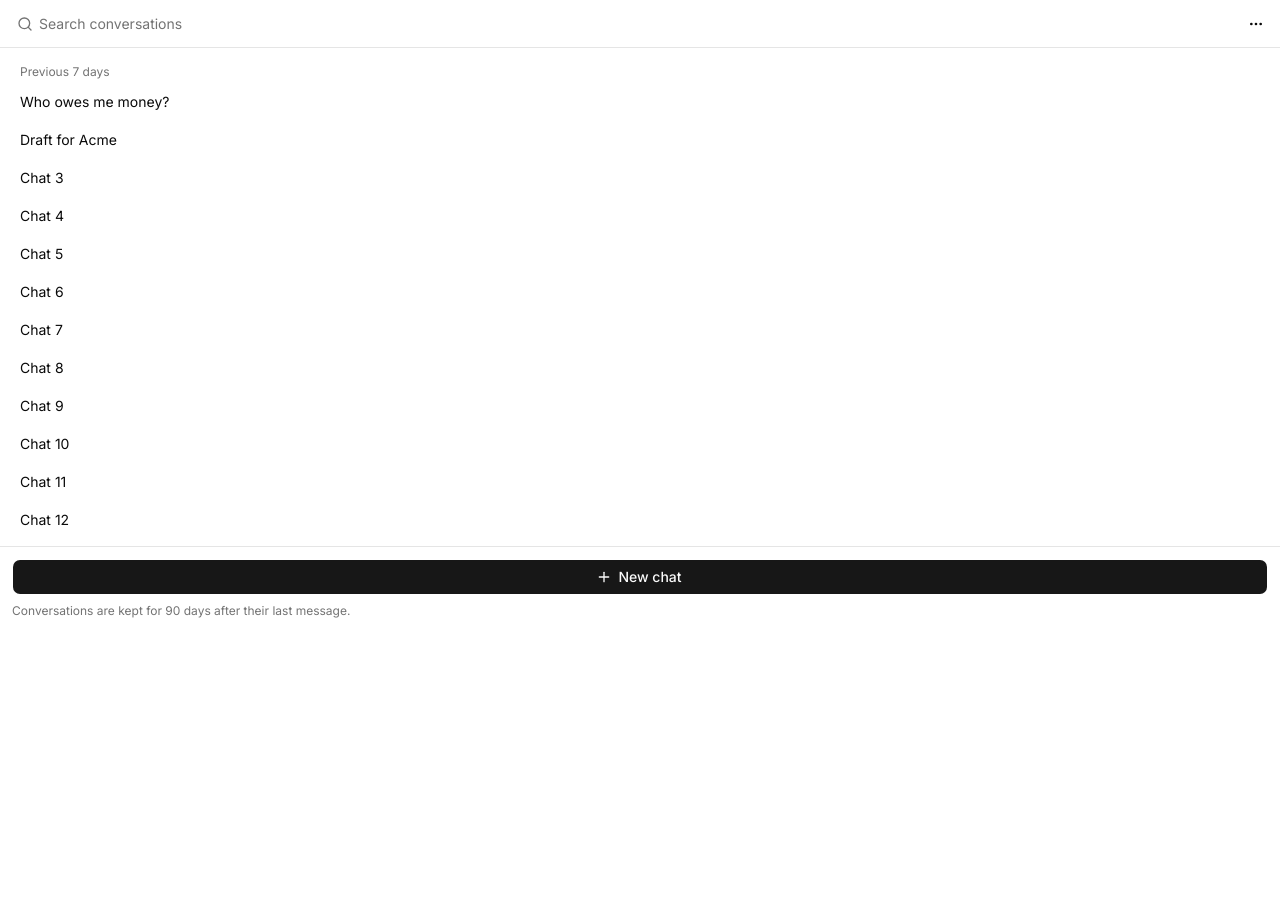
Scenario: SCR-04 delete Conversations dialog (T30, AC-37) › default (all) from "Delete all" › opens with the total count in the body, drafts-stay copy and a destructive "Delete all"
This screenshot has width=1280, height=900.
Step 1. Click the button named "Conversation actions" → (1256, 24), box top-left (1240, 8), bottom-right (1272, 40)
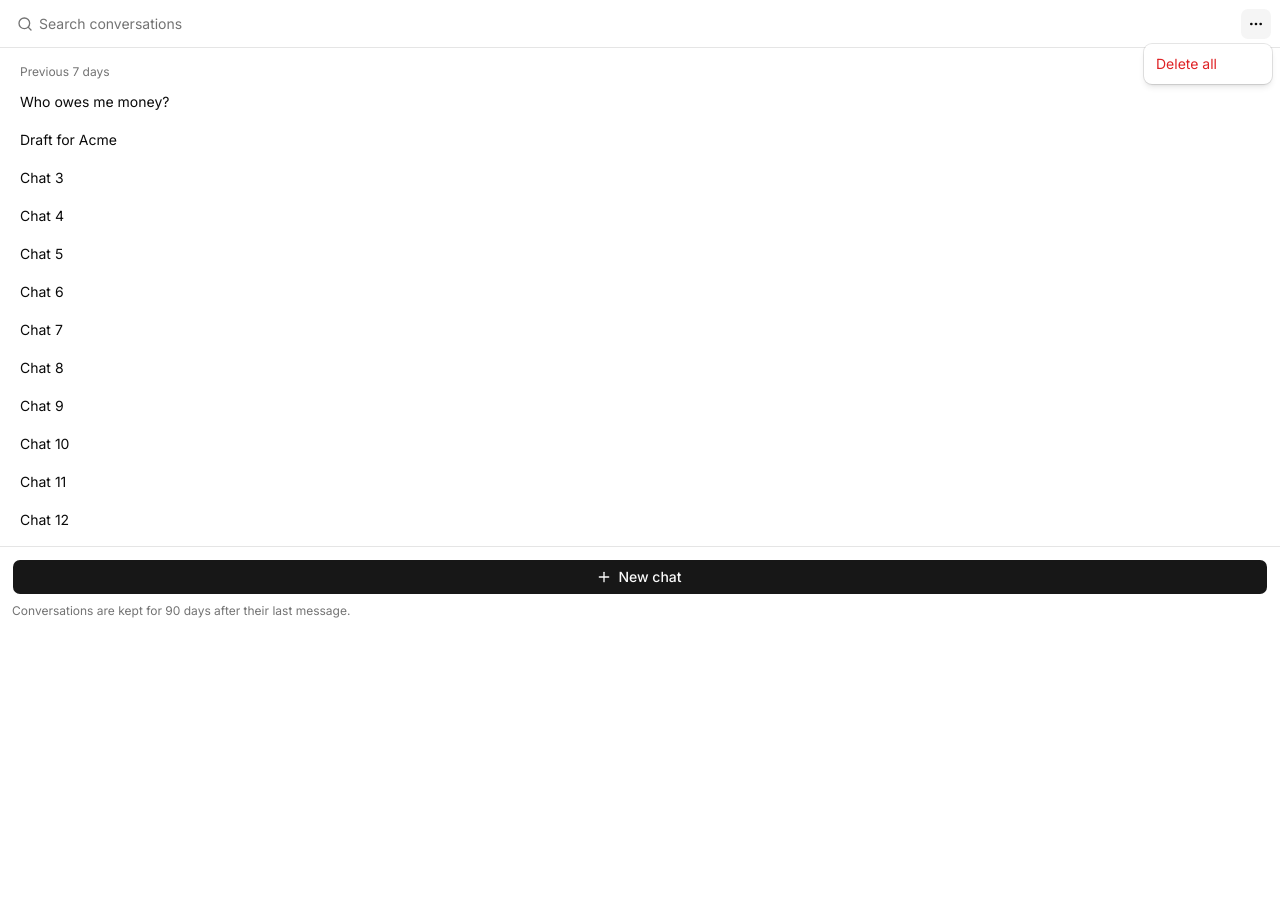
Step 2. Click the menu item "Delete all" → (1186, 64), box top-left (1156, 55), bottom-right (1217, 72)
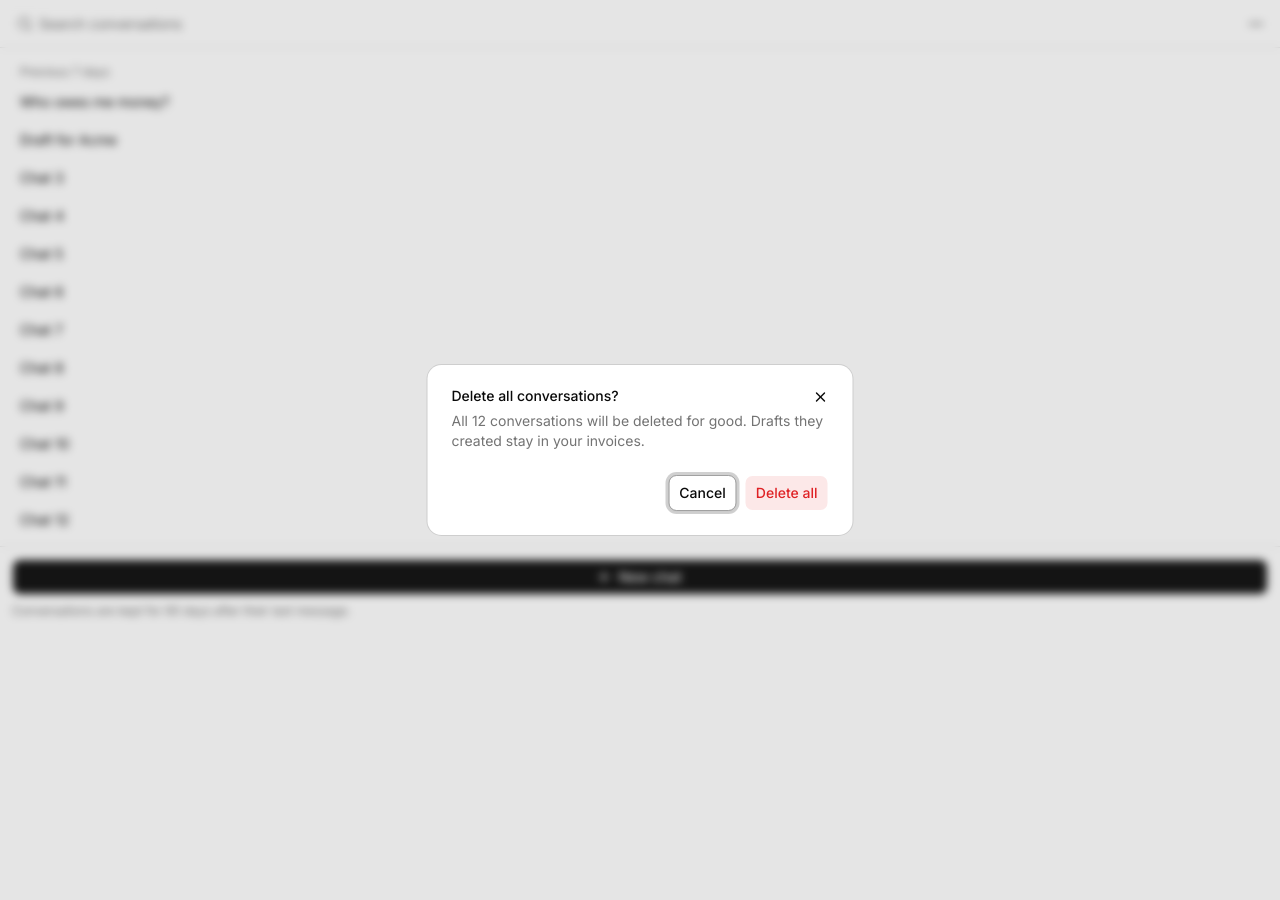
Result: the heading "Delete all conversations?" is shown at top-left (452, 387), bottom-right (619, 404)
Result: the text "All 12 conversations will be deleted for good. Drafts they created stay in your invoices." is shown at top-left (452, 412), bottom-right (823, 449)
Result: the button "Delete all" is shown at top-left (745, 475), bottom-right (828, 511)
